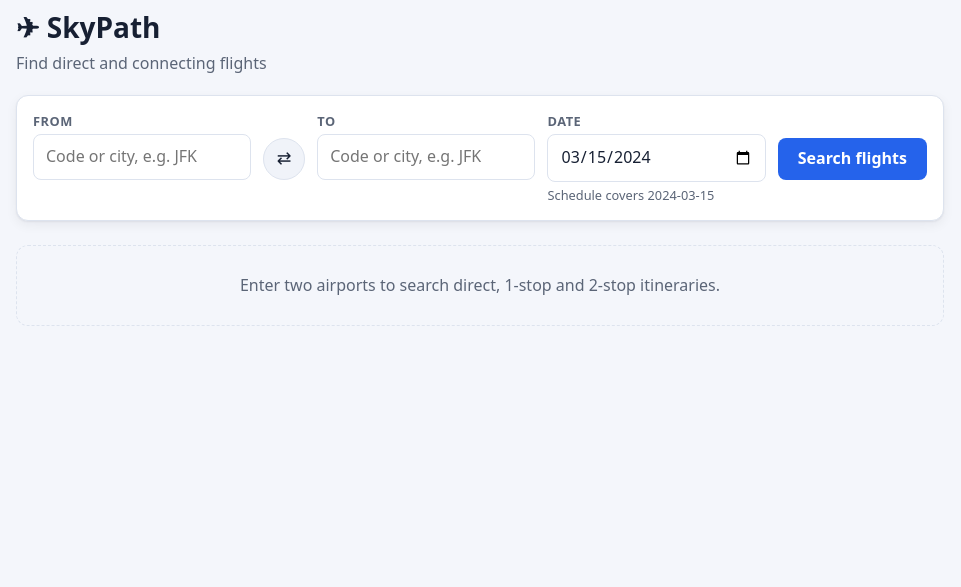
Test: App › explains date-line arrivals (test case 6)
Type "SYD" into the dropdown labelled "From" at (142, 157), box [33,134,251,180]
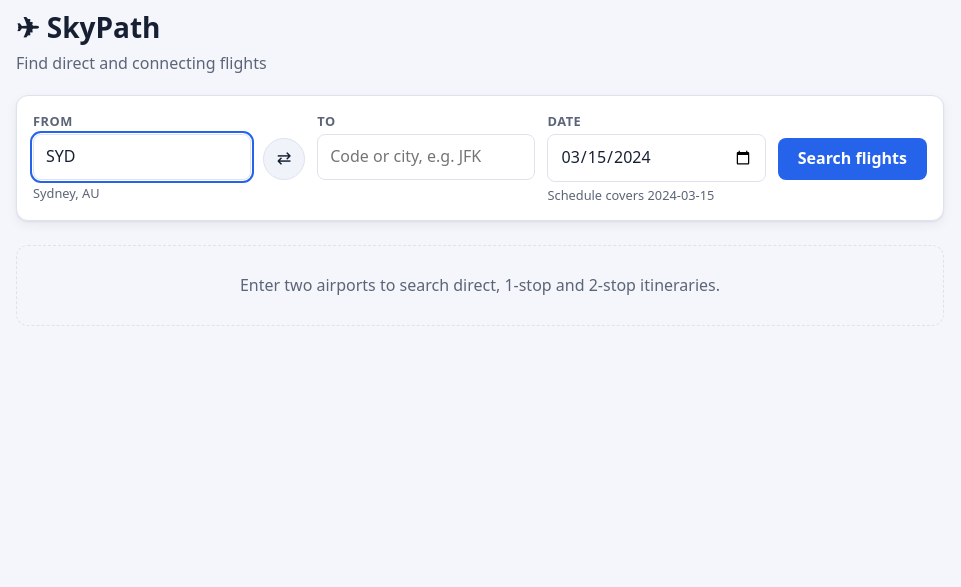
Type "LAX" into the dropdown labelled "To" at (426, 157), box [317,134,536,180]
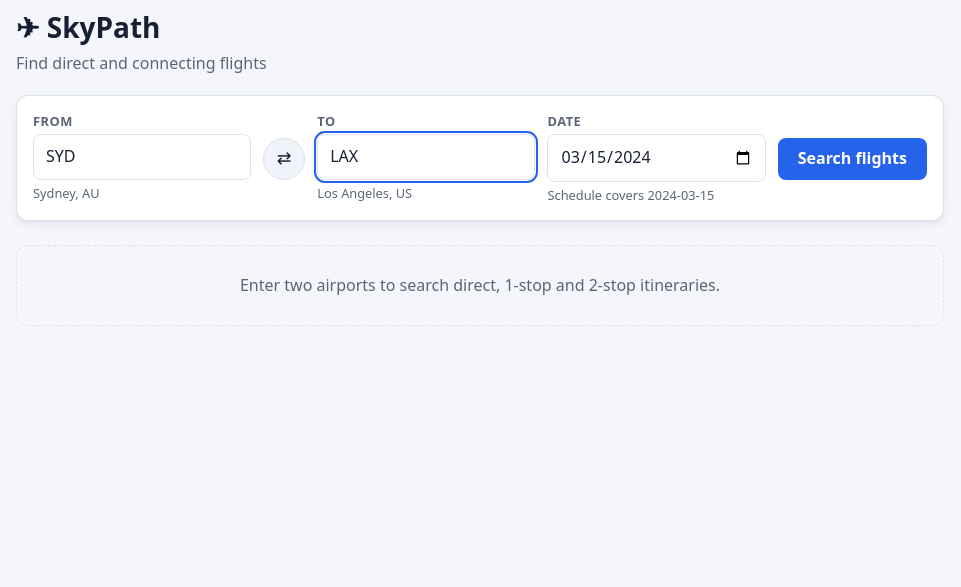
Click the button "Search flights" at (852, 159), box [778,138,927,180]
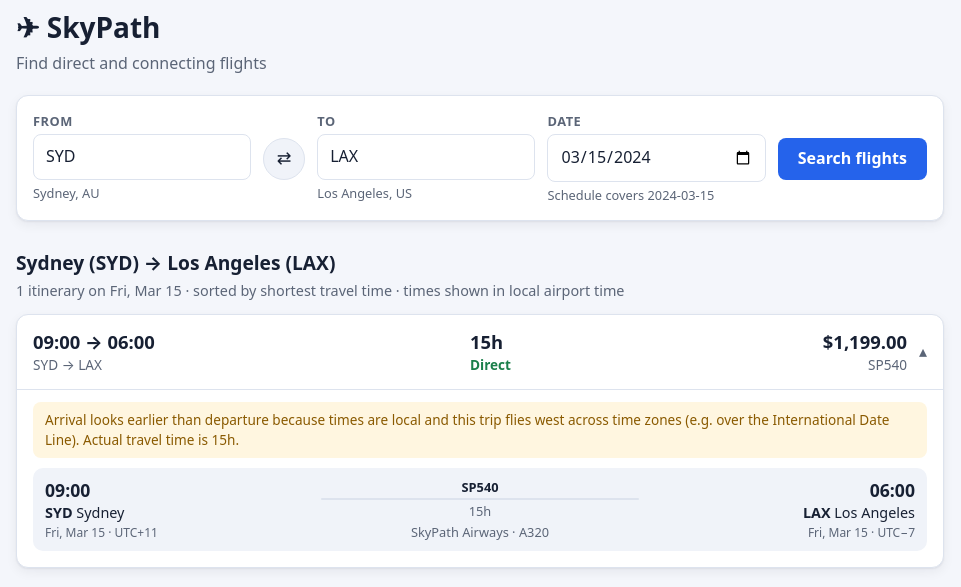
Expected: the text "Arrival looks earlier than departure" is shown, [45,410,890,449]
Expected: the 1st text "15h" is shown, [470,329,503,354]
